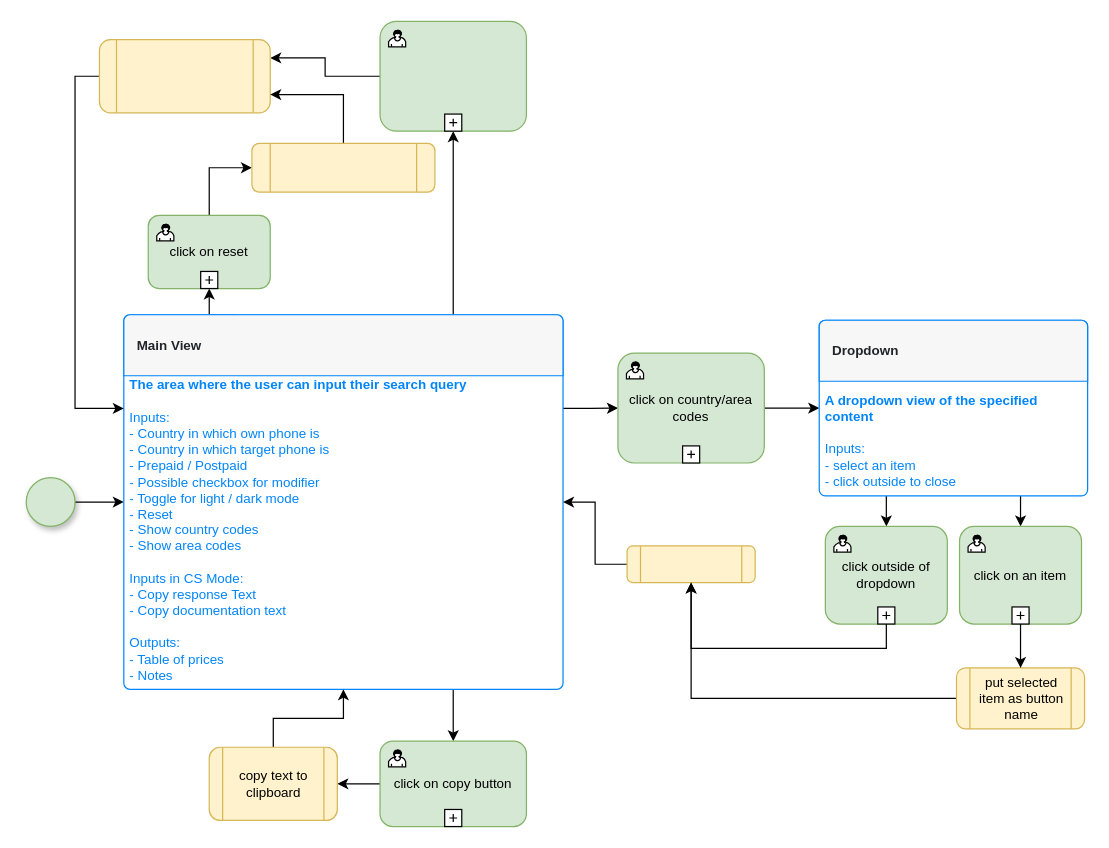
This 1109x848 diagram has some shape labels left out. The shapes that lost their labels are listed below. From the top down, each one's centre as x and y in pixels, then its label:
At point (184, 75): "updating all outputs".
At point (452, 75): "on change of countries, prepaid/postpaid, modifiers".
At point (343, 167): "reset variables to default values".
At point (690, 564): "closing dropdown".
